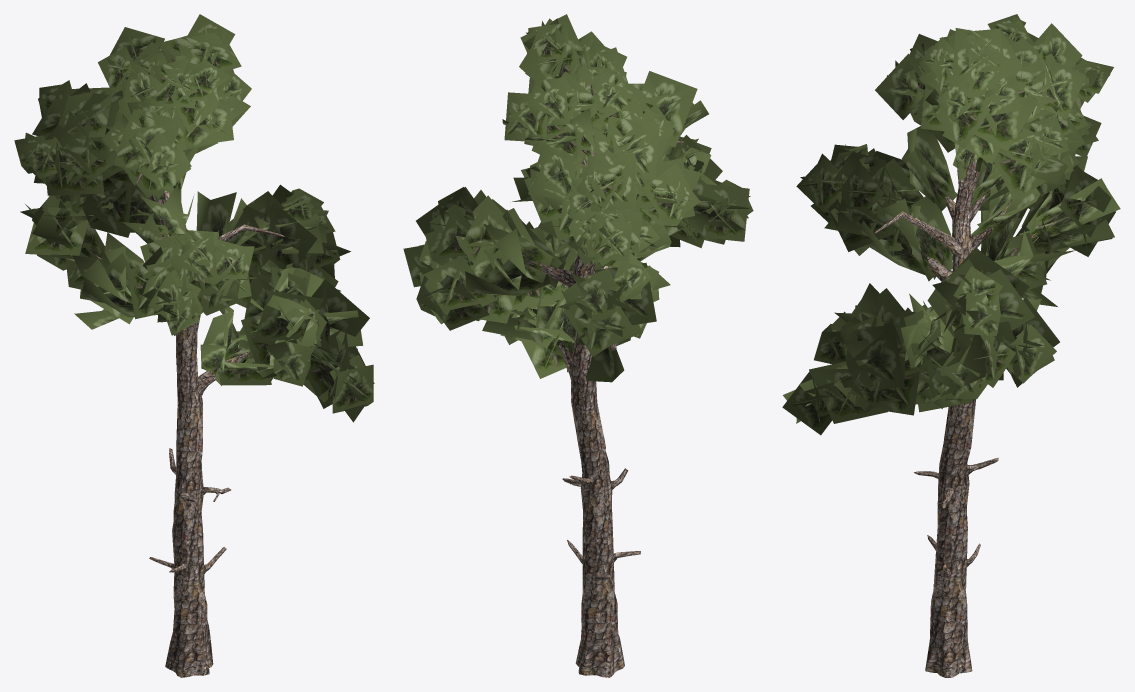
The model's file is LoblollyPine.obj.
3 renders of one model, left to right at view 1: azimuth 30°, elevation 25°; view 2: azimuth 150°, elevation 25°; view 3: azimuth 270°, elevation 25°, orthographic. The views are drawn at different scales.
Visible parts, largest first — view 1: LoblollyPine; view 2: LoblollyPine; view 3: LoblollyPine.
Boxes of the visible parts, x1=… form: LoblollyPine: x1=14, y1=14, x2=374, y2=677; LoblollyPine: x1=403, y1=14, x2=753, y2=677; LoblollyPine: x1=782, y1=14, x2=1120, y2=677.
Bounding box in the file's own units: 33.58 × 66.94 × 31.32.
